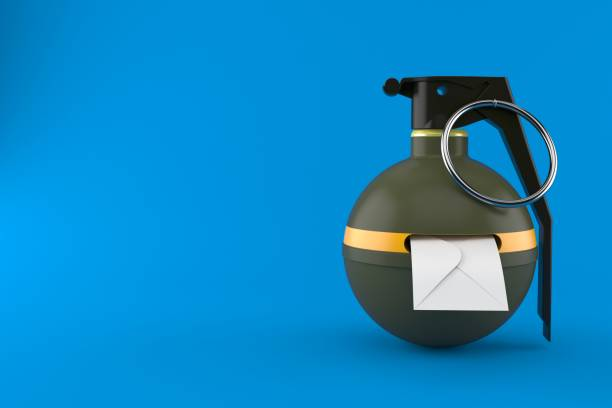e1: (349, 72, 554, 358)
